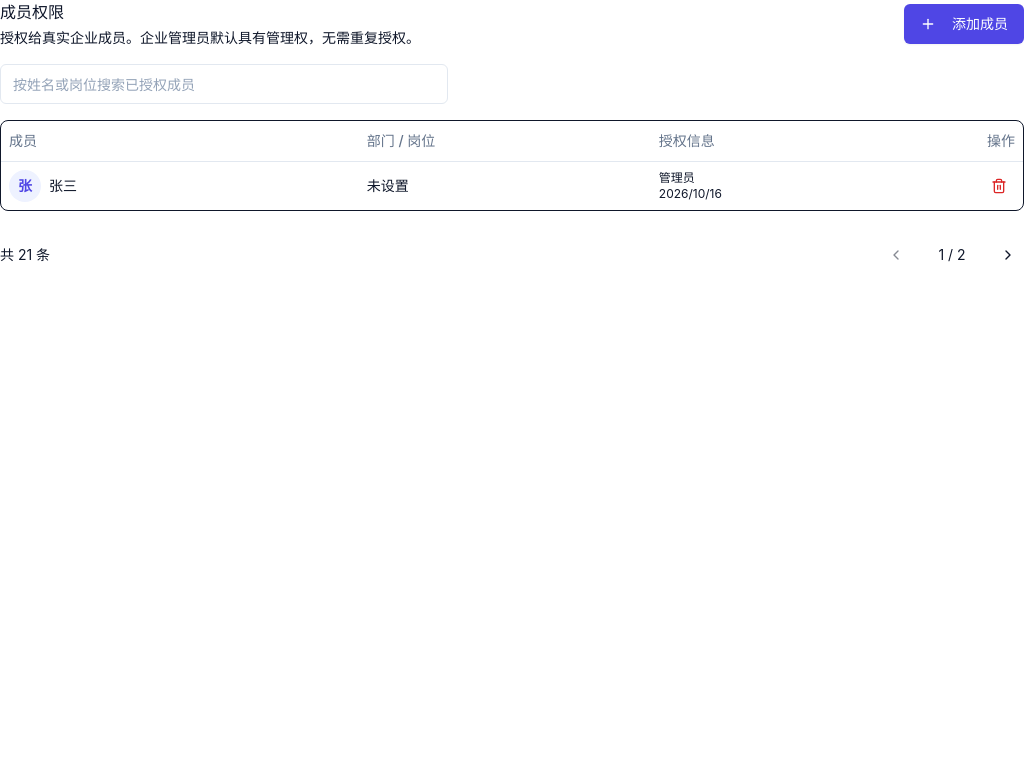
Test case: members, search and read-only previews › returns to the previous page after revoking the last grant on the final page
Expected: the text "张三" is shown, [49, 176, 77, 196]
Click the button named "下一页": x=1008, y=254 [992, 238, 1023, 270]
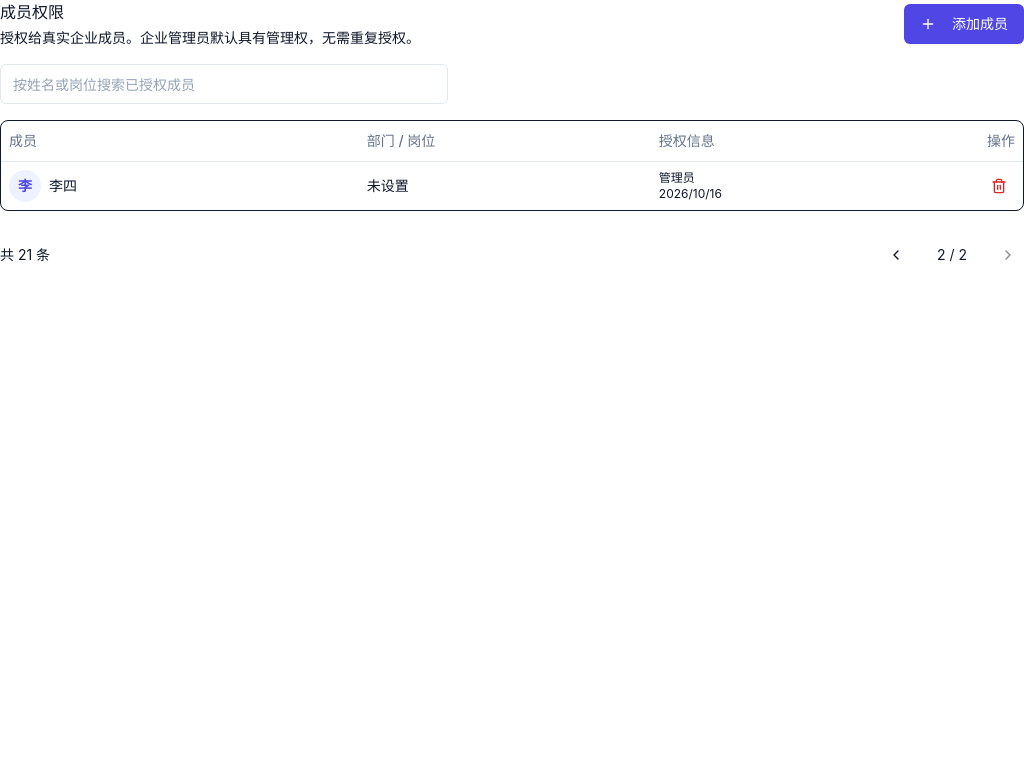
Click the button named "撤销 李四 的权限": x=999, y=186 [983, 170, 1015, 202]
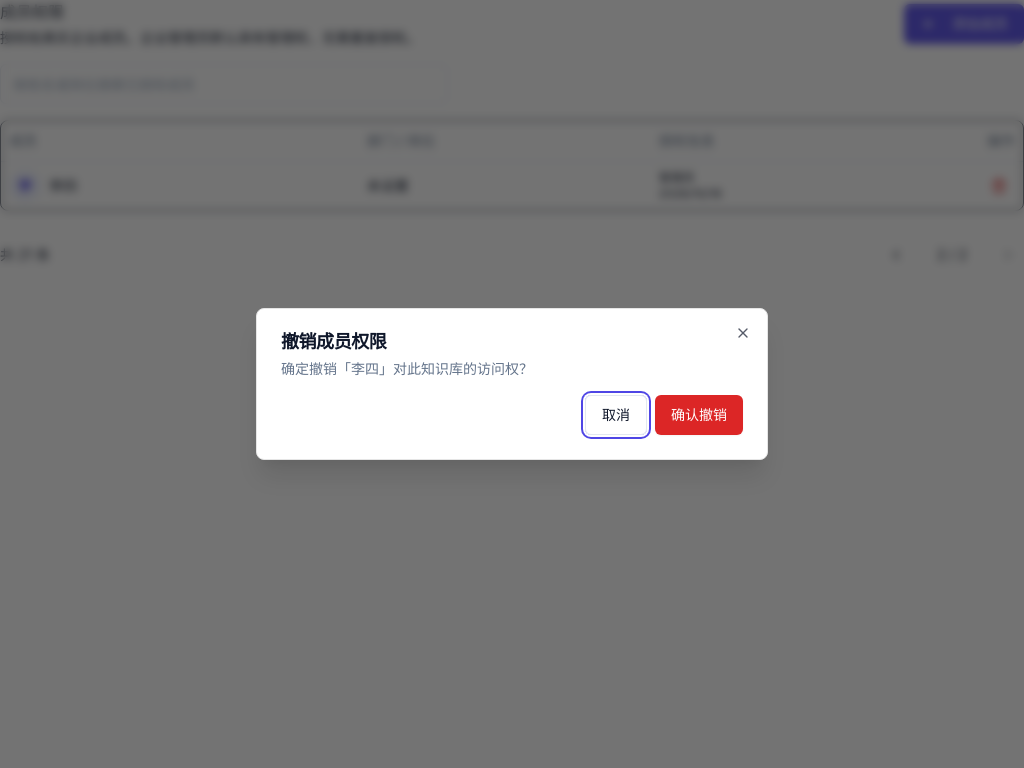
Click the button "确认撤销": x=699, y=415 [655, 395, 743, 435]
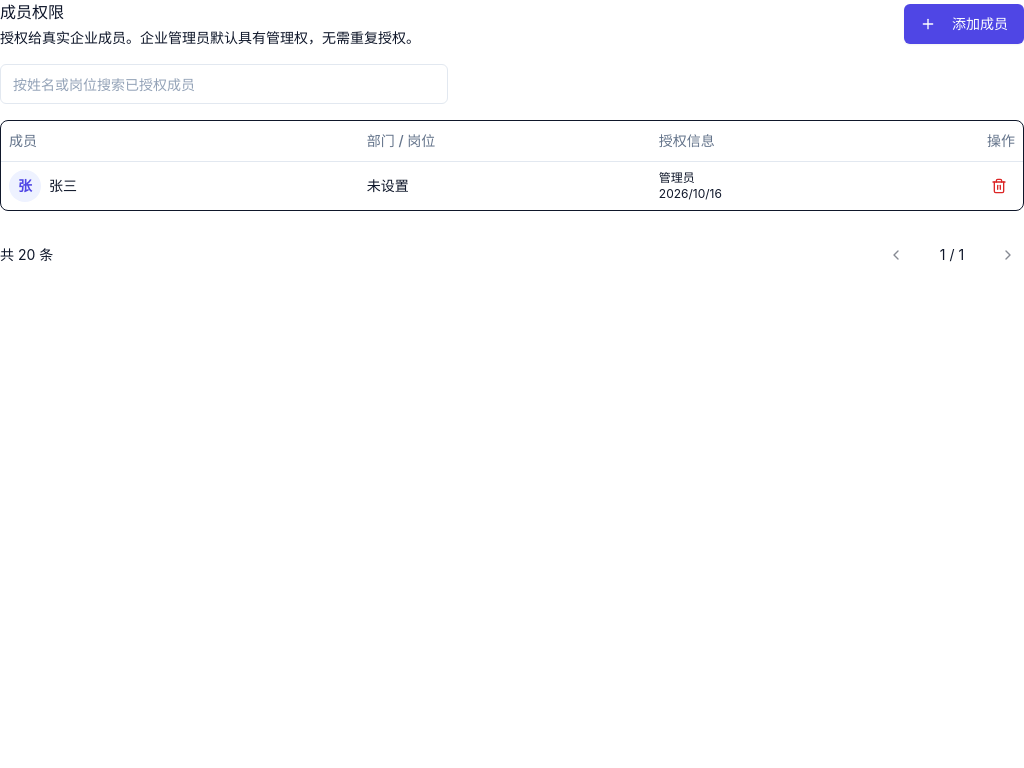
Result: the text "张三" is shown at [49, 176, 77, 196]
Result: the text "1 / 1" is shown at [940, 246, 964, 262]
